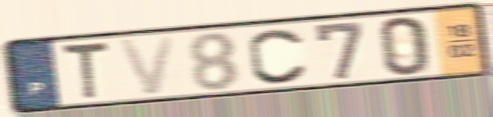0: (377, 14, 431, 78)
7: (310, 20, 366, 82)
8: (186, 29, 243, 92)
C: (246, 26, 311, 86)
T: (58, 39, 112, 102)
V: (115, 33, 179, 97)
